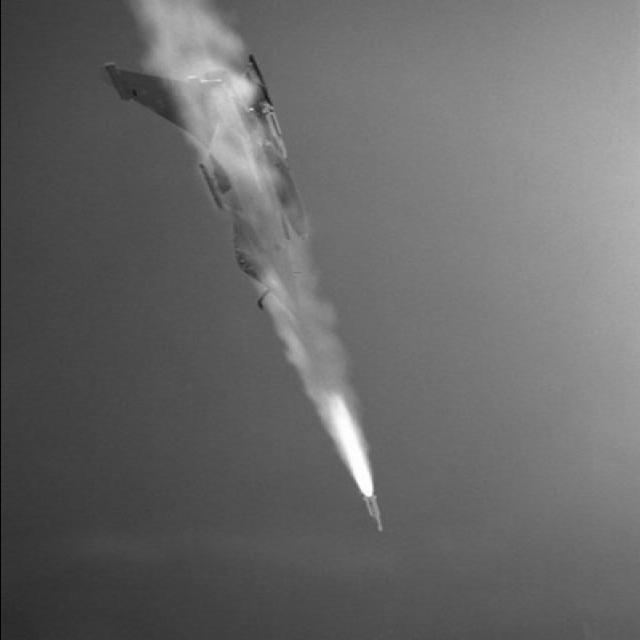Missile: (343, 491, 389, 537)
